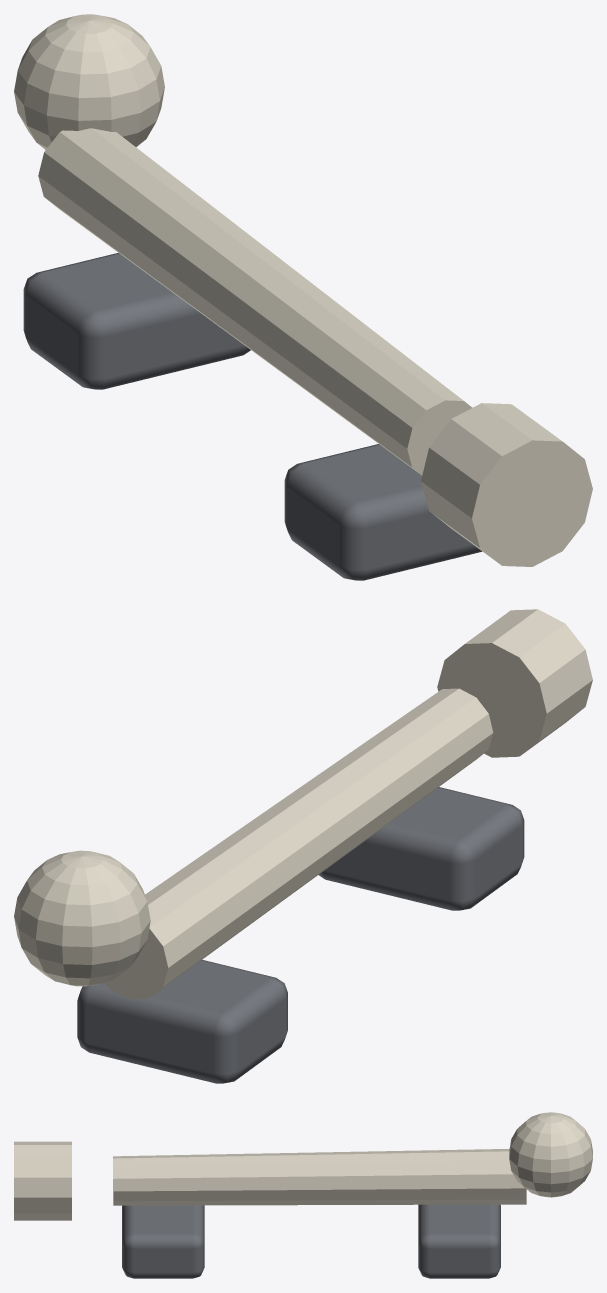
The model's file is human-anatomy-and-education-kit-humerus-a5aa467d__38943.glb.
3 views of the same model, one above another, from view 1: azimuth 30°, elevation 25°; view 2: azimuth 150°, elevation 25°; view 3: azimuth 270°, elevation 25° (orthographic). The views are drawn at different scales.
Visible parts, largest first — view 1: humerus; view 2: humerus; view 3: humerus.
Part boxes in pixels (x1=…): humerus: x1=14, y1=14, x2=592, y2=580; humerus: x1=14, y1=609, x2=592, y2=1083; humerus: x1=14, y1=1112, x2=592, y2=1278.
Size of the model in its own units: 0.073 by 0.101 by 0.3503.
